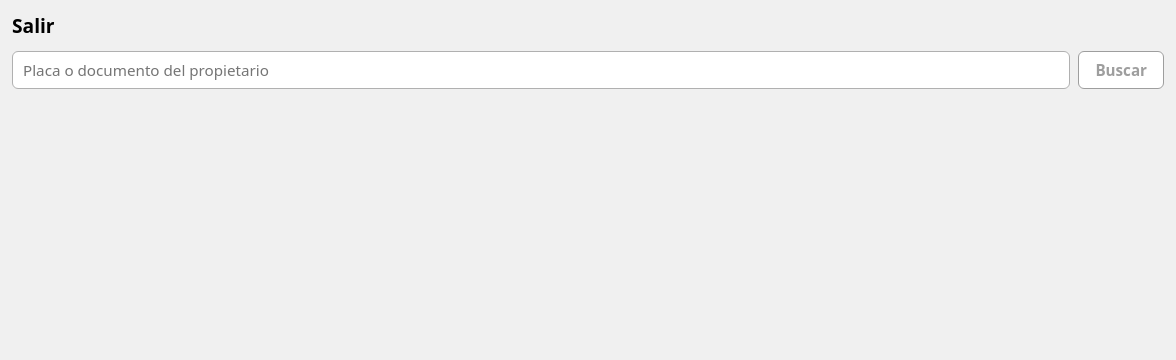
Test: FormularioSalida › debería buscar y mostrar un vehículo encontrado
The width and height of the screenshot is (1176, 360).
Type "ABC123" into the field with placeholder "Placa o documento del propietario".
click(541, 70); type("ABC123")  # box [12, 51, 1070, 89]
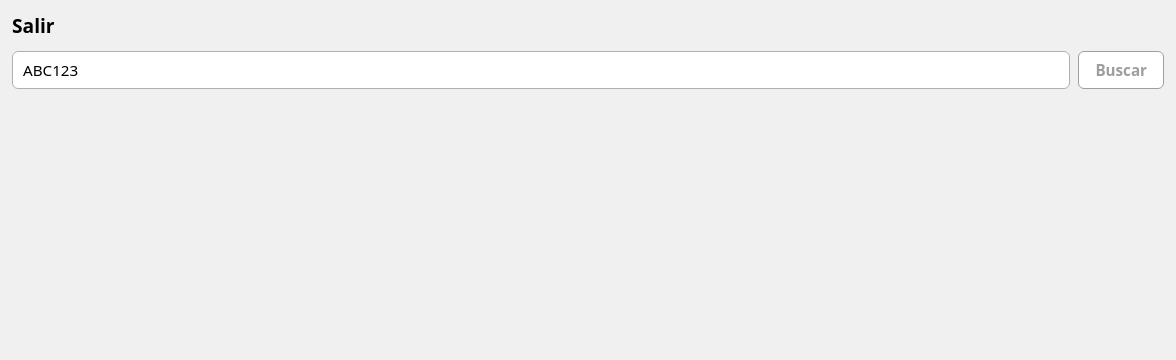
Click the button "Buscar".
click(1121, 70)  # box [1078, 51, 1164, 89]
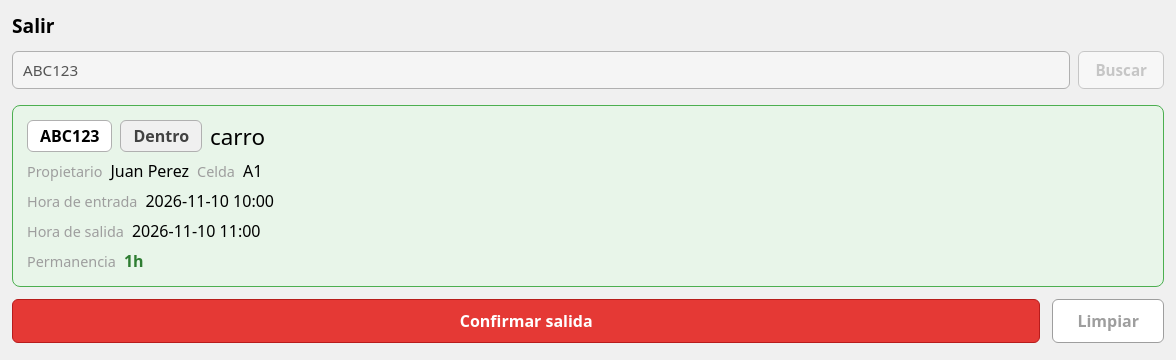
Expected: the button "Confirmar salida" is shown, [12, 299, 1040, 343]
